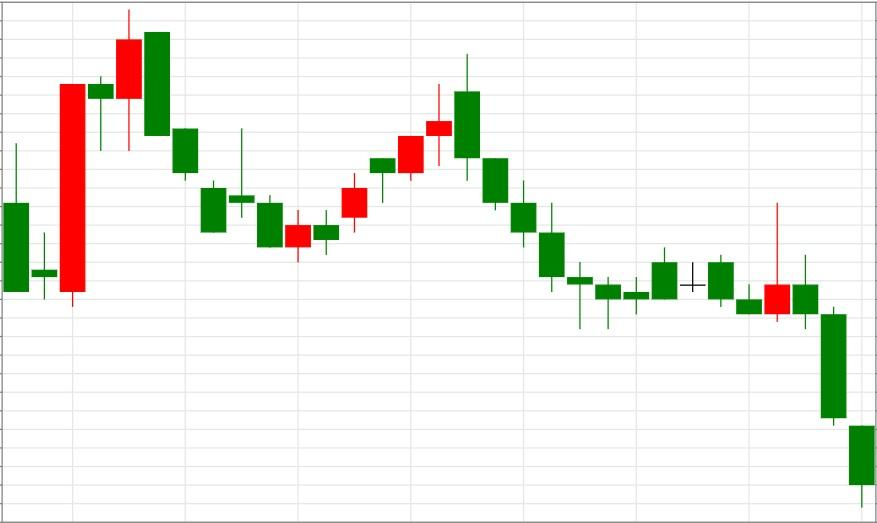three_black_crows_fall: (2, 11, 227, 306), (285, 53, 537, 262)
